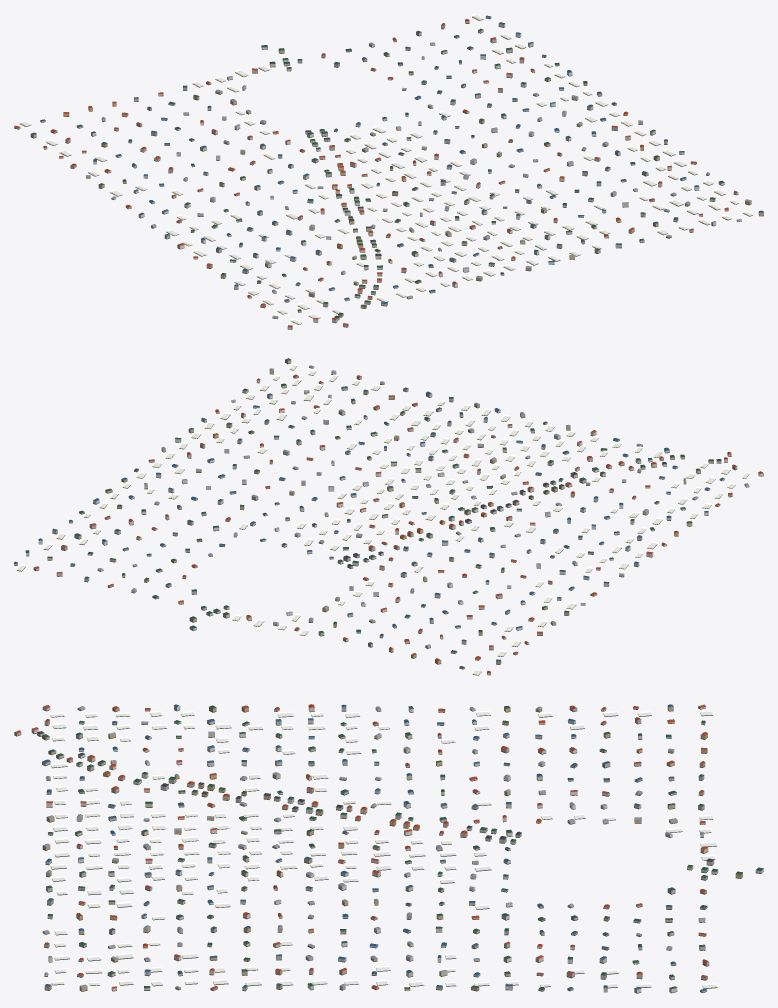
Rendered from buildings_T_W06_S03.glb.
3 views of the same model, one above another, from view 1: azimuth 30°, elevation 25°; view 2: azimuth 150°, elevation 25°; view 3: azimuth 270°, elevation 25° (orthographic). The views are drawn at different scales.
Visible parts, largest first — view 1: T_W06_S03_roofs_agri_greenhouse_arch, T_W06_S03_slope_seating_foundations, T_W06_S03_walls_wall_modern_warm_white, T_W06_S03_walls_wall_french_ochre_villa, T_W06_S03_walls_wall_pastel_sand_gray, T_W06_S03_roofs_roof_pine_green_hip, T_W06_S03_walls_wall_dalat_cream_stucco, T_W06_S03_roofs_roof_terracotta_gable, T_W06_S03_roofs_roof_highland_blue_gable, T_W06_S03_roofs_roof_zinc_silver_gable; view 2: T_W06_S03_slope_seating_foundations, T_W06_S03_roofs_agri_greenhouse_arch, T_W06_S03_walls_wall_modern_warm_white, T_W06_S03_walls_wall_french_ochre_villa, T_W06_S03_walls_wall_pastel_sand_gray, T_W06_S03_roofs_roof_pine_green_hip, T_W06_S03_walls_wall_dalat_cream_stucco, T_W06_S03_roofs_roof_terracotta_gable, T_W06_S03_roofs_roof_highland_blue_gable, T_W06_S03_roofs_roof_zinc_silver_gable; view 3: T_W06_S03_slope_seating_foundations, T_W06_S03_roofs_agri_greenhouse_arch, T_W06_S03_walls_wall_modern_warm_white, T_W06_S03_walls_wall_french_ochre_villa, T_W06_S03_walls_wall_pastel_sand_gray, T_W06_S03_roofs_roof_pine_green_hip, T_W06_S03_walls_wall_dalat_cream_stucco, T_W06_S03_roofs_roof_terracotta_gable, T_W06_S03_roofs_roof_highland_blue_gable, T_W06_S03_roofs_roof_zinc_silver_gable.
Boxes of the visible parts, x1,y1,x2,y2 form: T_W06_S03_roofs_agri_greenhouse_arch: [19, 14, 752, 324]; T_W06_S03_slope_seating_foundations: [14, 16, 763, 329]; T_W06_S03_walls_wall_modern_warm_white: [14, 23, 741, 329]; T_W06_S03_walls_wall_french_ochre_villa: [30, 36, 763, 317]; T_W06_S03_walls_wall_pastel_sand_gray: [43, 20, 728, 327]; T_W06_S03_roofs_roof_pine_green_hip: [40, 22, 724, 315]; T_W06_S03_walls_wall_dalat_cream_stucco: [59, 16, 715, 319]; T_W06_S03_roofs_roof_terracotta_gable: [14, 19, 737, 327]; T_W06_S03_roofs_roof_highland_blue_gable: [31, 15, 763, 303]; T_W06_S03_roofs_roof_zinc_silver_gable: [86, 42, 751, 317]; T_W06_S03_slope_seating_foundations: [14, 362, 763, 675]; T_W06_S03_roofs_agri_greenhouse_arch: [16, 364, 749, 674]; T_W06_S03_walls_wall_modern_warm_white: [26, 366, 763, 674]; T_W06_S03_walls_wall_french_ochre_villa: [69, 359, 732, 668]; T_W06_S03_walls_wall_pastel_sand_gray: [33, 376, 737, 654]; T_W06_S03_roofs_roof_pine_green_hip: [25, 383, 724, 667]; T_W06_S03_walls_wall_dalat_cream_stucco: [14, 384, 749, 644]; T_W06_S03_roofs_roof_terracotta_gable: [34, 374, 763, 673]; T_W06_S03_roofs_roof_highland_blue_gable: [14, 358, 709, 661]; T_W06_S03_roofs_roof_zinc_silver_gable: [97, 365, 748, 646]; T_W06_S03_slope_seating_foundations: [14, 707, 763, 993]; T_W06_S03_roofs_agri_greenhouse_arch: [50, 710, 717, 988]; T_W06_S03_walls_wall_modern_warm_white: [31, 706, 763, 992]; T_W06_S03_walls_wall_french_ochre_villa: [42, 706, 742, 991]; T_W06_S03_walls_wall_pastel_sand_gray: [14, 706, 709, 990]; T_W06_S03_roofs_roof_pine_green_hip: [42, 705, 763, 989]; T_W06_S03_walls_wall_dalat_cream_stucco: [37, 708, 714, 992]; T_W06_S03_roofs_roof_terracotta_gable: [15, 704, 708, 989]; T_W06_S03_roofs_roof_highland_blue_gable: [42, 704, 706, 991]; T_W06_S03_roofs_roof_zinc_silver_gable: [43, 706, 705, 988].
Bounding box in the file's own units: 1730 × 34.18 × 1945.
